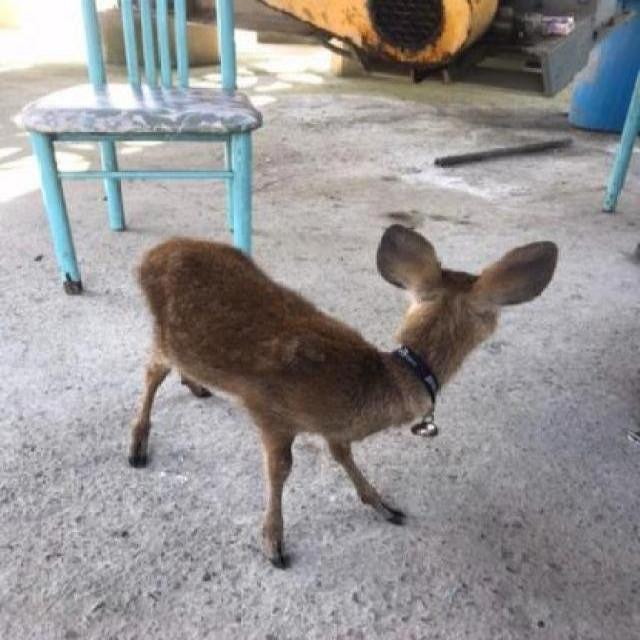deer: (124, 218, 566, 587)
